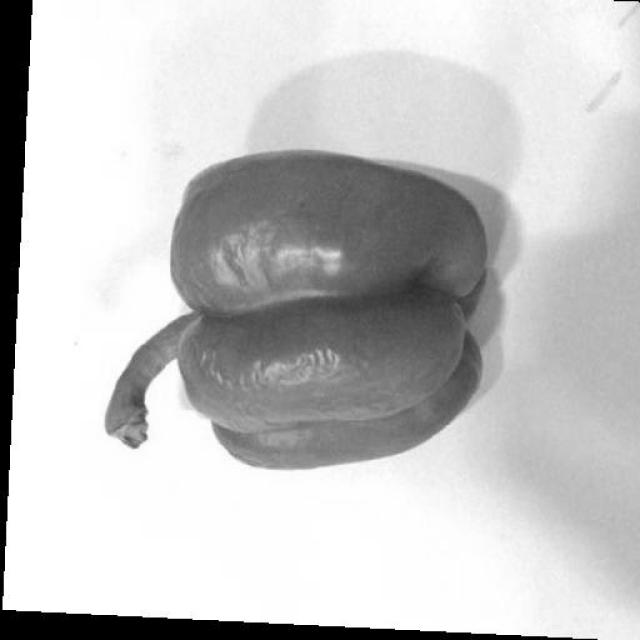Fresh_Capsicum: (125, 123, 502, 470)
